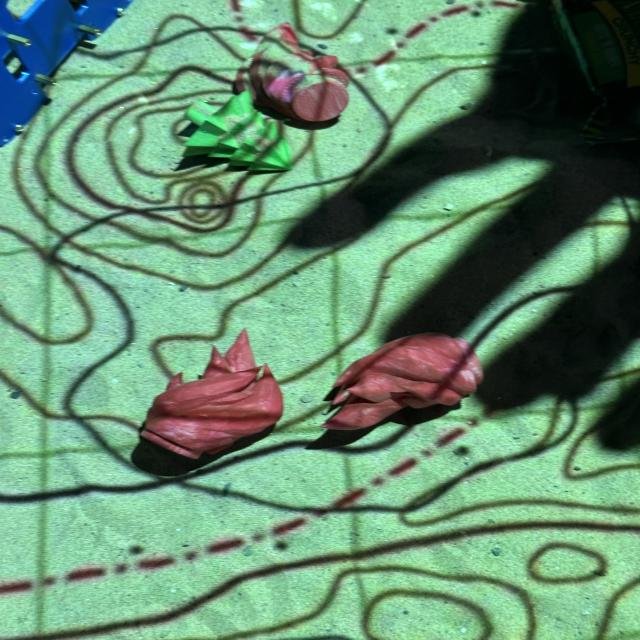fire: (137, 328, 284, 461), (324, 331, 480, 430), (232, 22, 349, 124)
tree: (179, 89, 297, 174)
